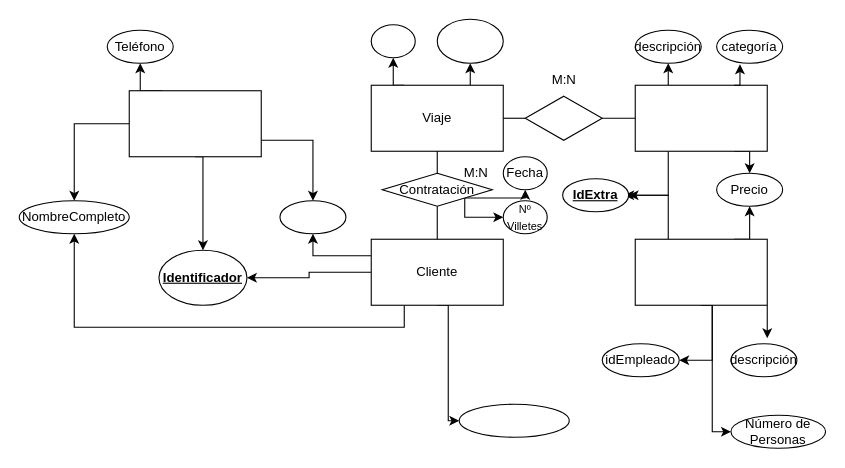
The diagram is 845 pixels wide and 468 high, and some of its shapes have lost their labels. Here are the shapes that lost their labels. From the top down, the centre of each, then its label:
At (392,41): "IdViaje".
At (469,40): "Precio Por Persona".
At (194,123): "Empleado".
At (563,117): "Incluye Producto".
At (700,117): "Producto".
At (312,217): "Pasaporte".
At (700,271): "Servicio".
At (513,420): "CorreoElectrónico".
